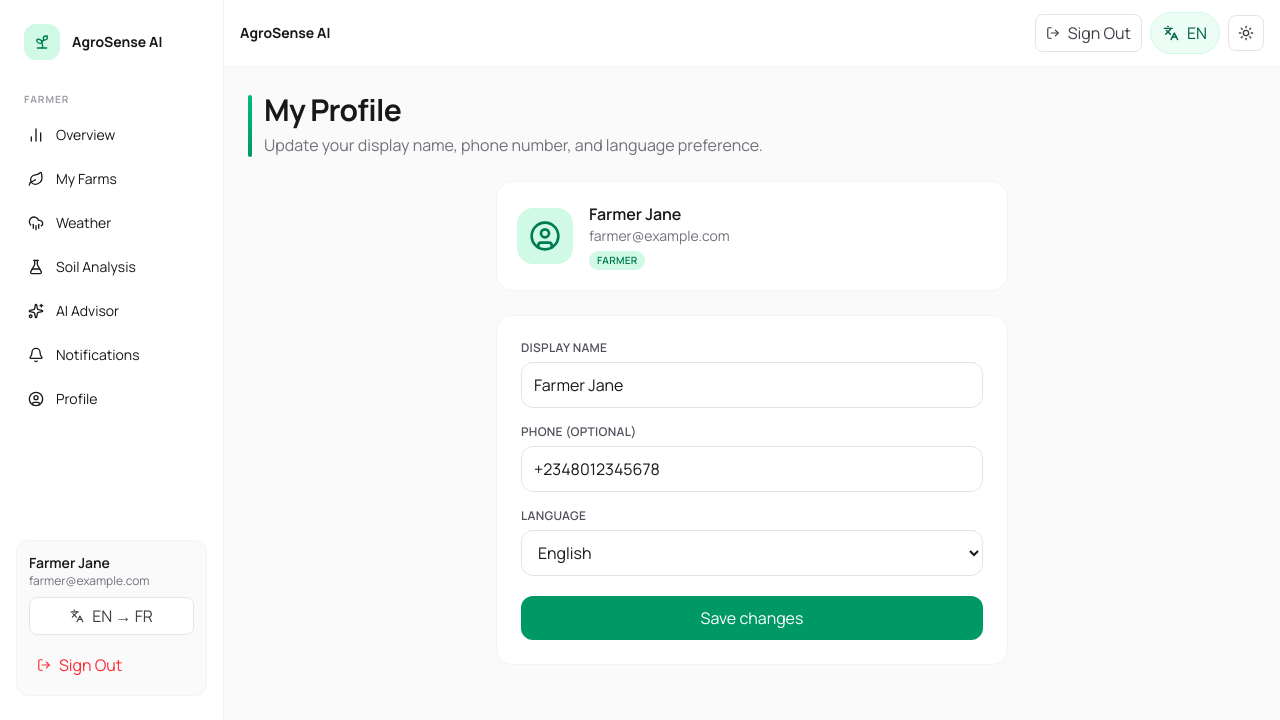
Test: Farmer dashboard pages › updates profile and shows success state
Replace the text in the field labelled "Display name" with "Farmer Jane Updated" at {"x": 752, "y": 384}, box [521,362,983,408]
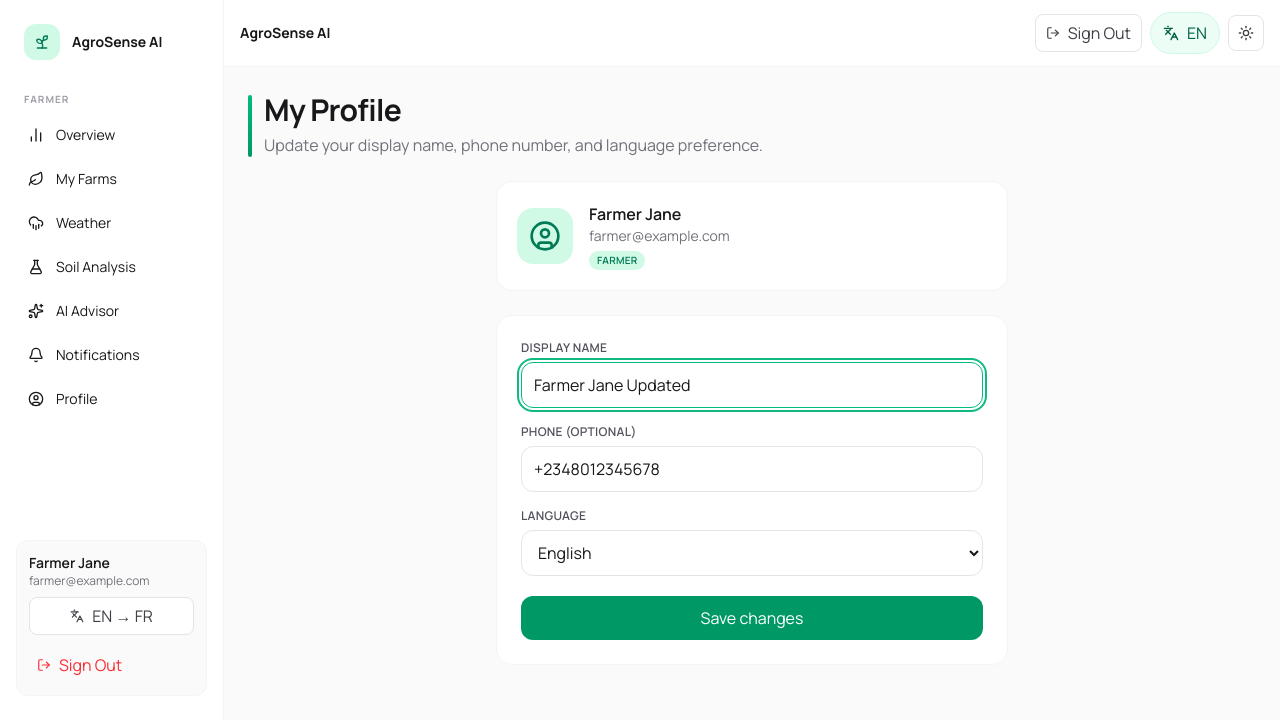
Click the button "Save changes" at {"x": 752, "y": 618}, box [521,596,983,640]
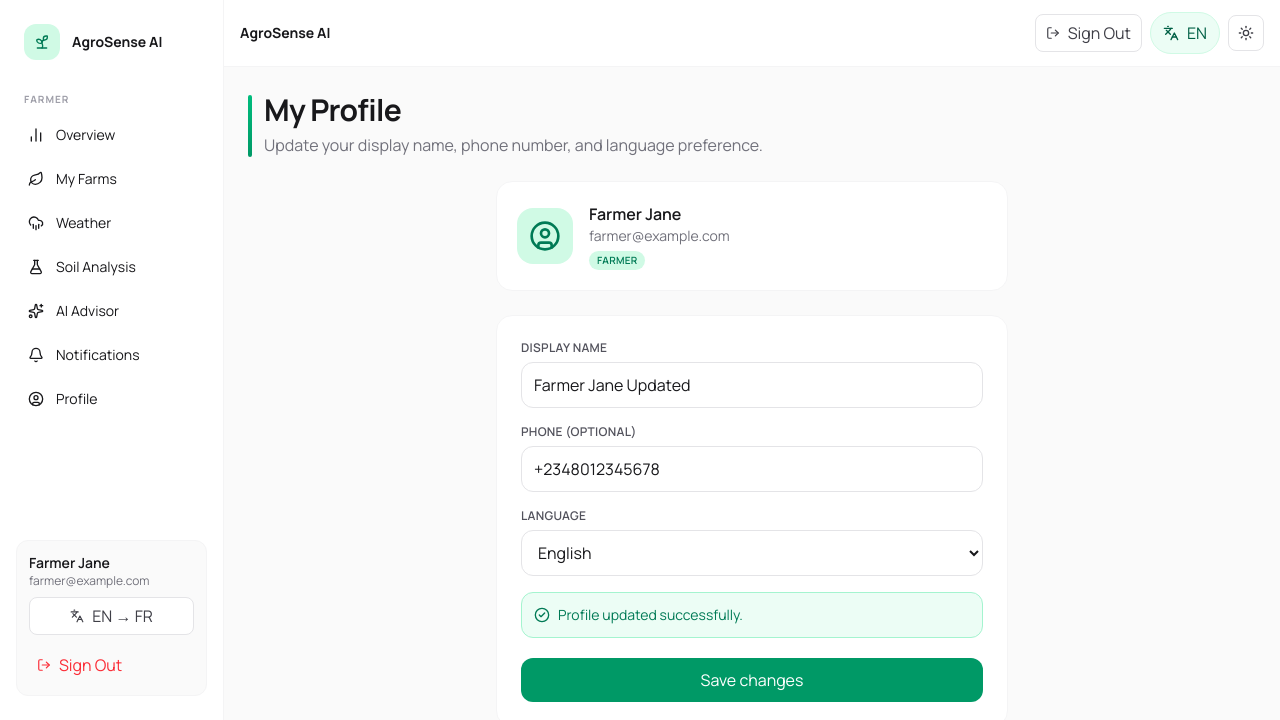
Check: the text "Profile updated successfully." is shown, box [521,592,983,638]
